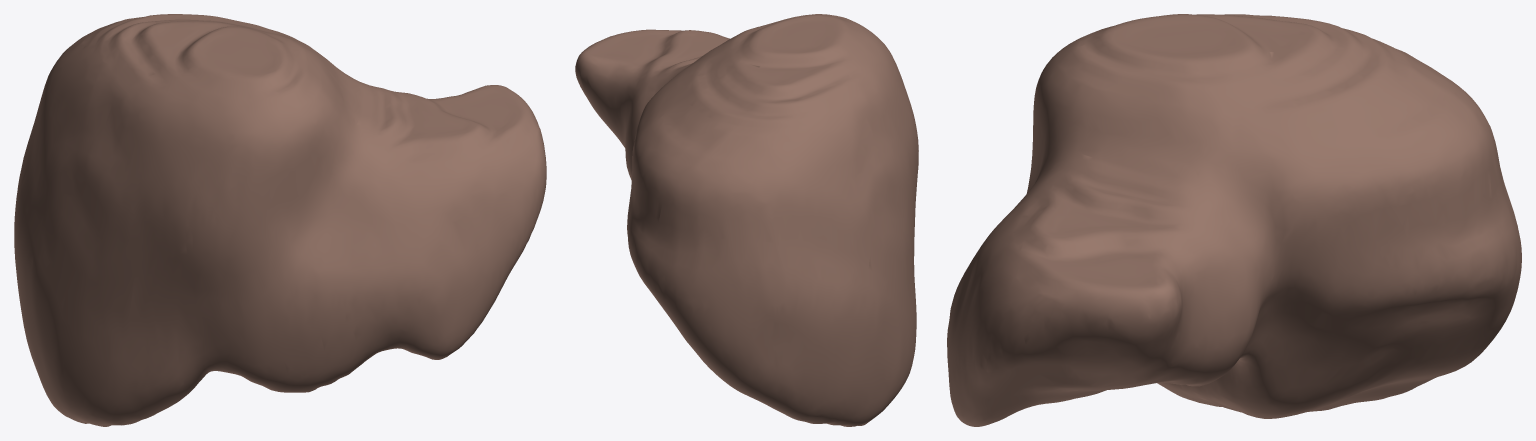
The model's file is higado.fbx.
3 renders of one model, left to right at view 1: azimuth 30°, elevation 25°; view 2: azimuth 150°, elevation 25°; view 3: azimuth 270°, elevation 25°, orthographic. The views are drawn at different scales.
Visible parts, largest first — view 1: higado; view 2: higado; view 3: higado.
Boxes of the visible parts, left/top/right/bottom form: higado: left=14, top=14, right=546, bottom=426; higado: left=575, top=14, right=918, bottom=426; higado: left=947, top=14, right=1521, bottom=426.
Size of the model in its own units: 17.76 by 15.33 by 18.
